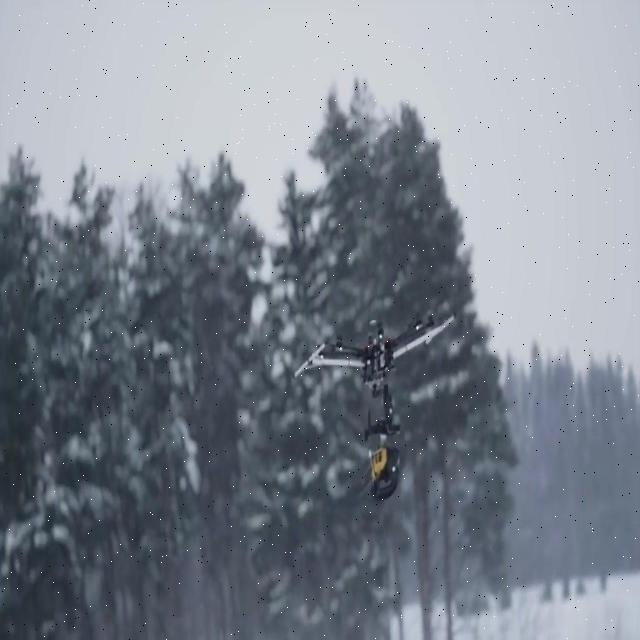UAV: (295, 314, 457, 442)
